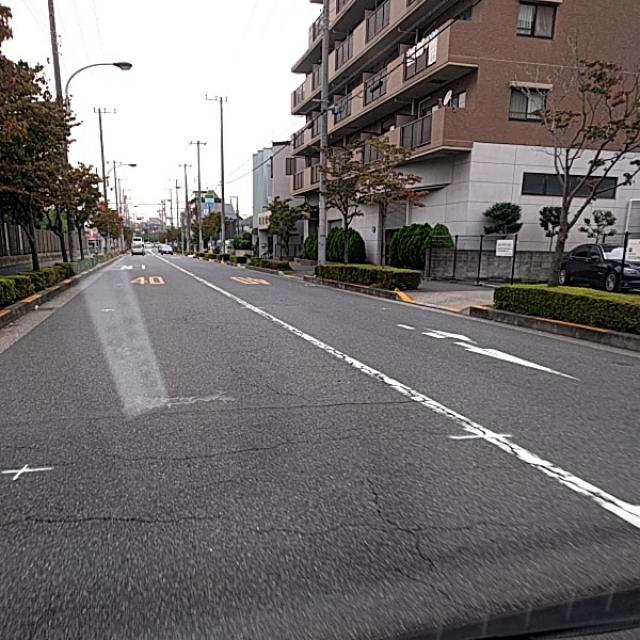pothole: (128, 410, 421, 531)
